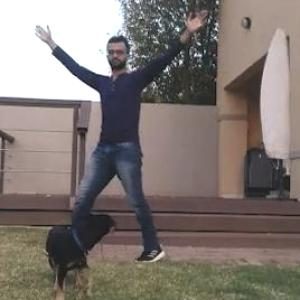takeoff: (31, 9, 206, 269)
